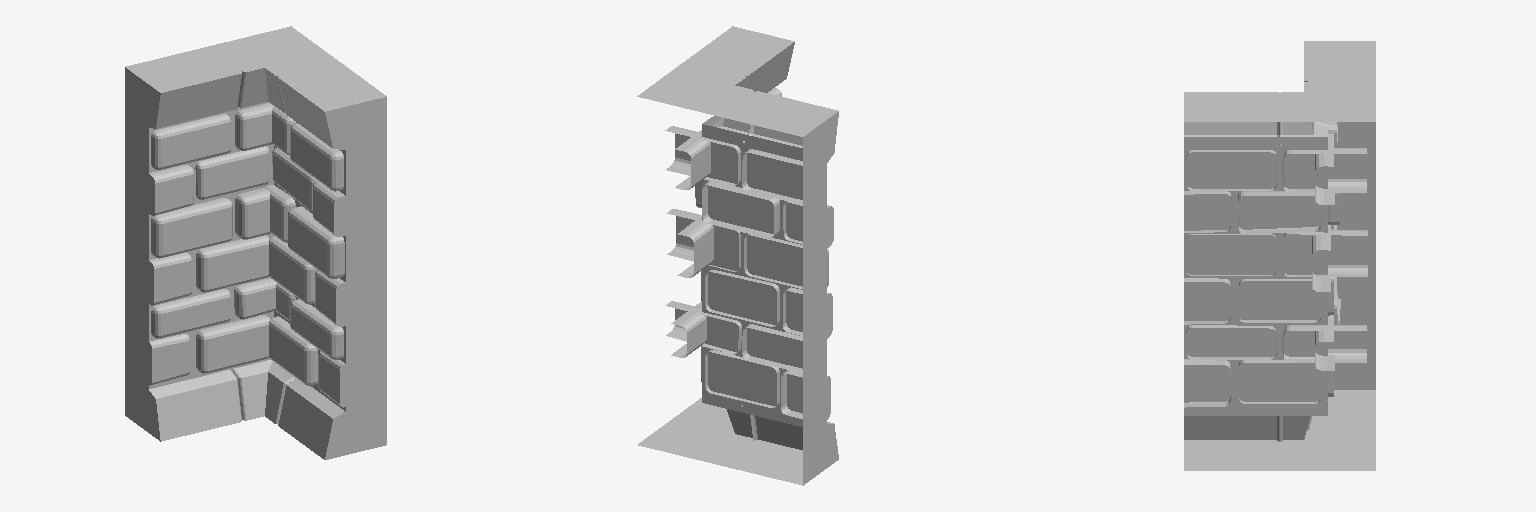
The model's file is wallSingle_corner.obj.
3 views of the same model, side by side, from view 1: azimuth 30°, elevation 25°; view 2: azimuth 150°, elevation 25°; view 3: azimuth 270°, elevation 25° (orthographic).
Visible parts, largest first — view 1: wallSingle_corner_Cube.2619; view 2: wallSingle_corner_Cube.2619; view 3: wallSingle_corner_Cube.2619.
Boxes of the visible parts, <box> form: wallSingle_corner_Cube.2619: <box>125,26,386,459</box>; wallSingle_corner_Cube.2619: <box>637,26,838,485</box>; wallSingle_corner_Cube.2619: <box>1184,41,1375,470</box>.
Bounding box in the file's own units: 2 × 4 × 2.